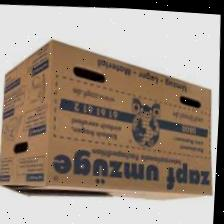cardboard: (0, 28, 222, 210)
